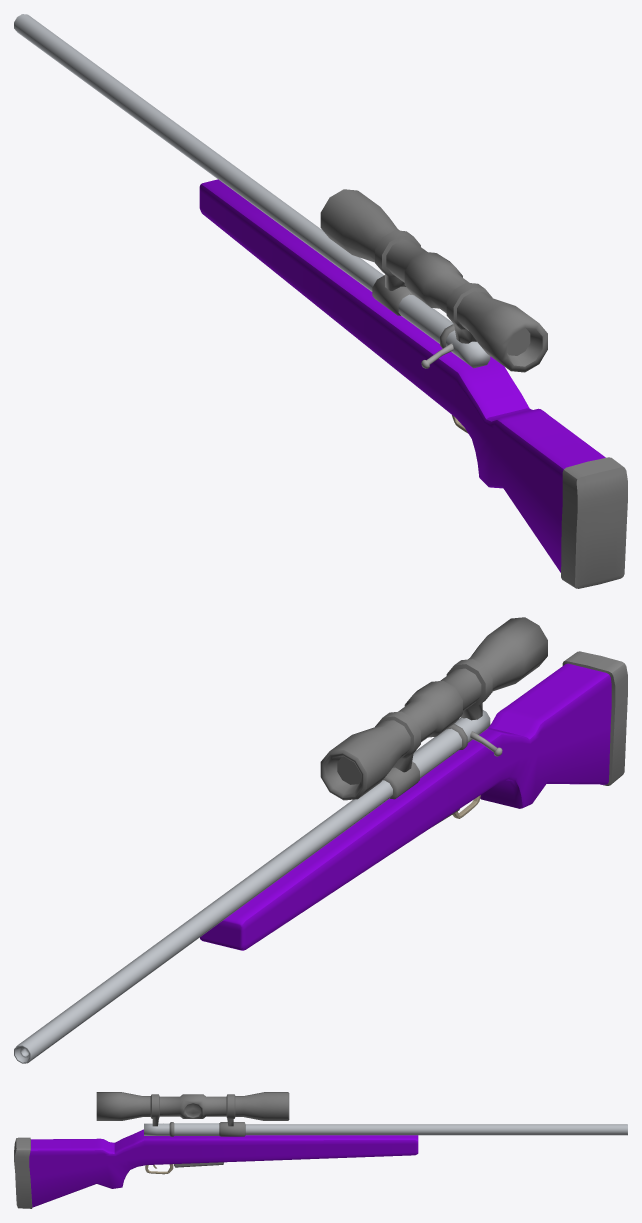
The model's file is sniper 1.fbx.
3 views of the same model, one above another, from view 1: azimuth 30°, elevation 25°; view 2: azimuth 150°, elevation 25°; view 3: azimuth 270°, elevation 25° (orthographic). The views are drawn at different scales.
Visible parts, largest first — view 1: SniperBase, SniperScope; view 2: SniperBase, SniperScope; view 3: SniperBase, SniperScope.
Part boxes in pixels (bbox=[...]): SniperBase: bbox=[199, 179, 627, 588]; SniperScope: bbox=[14, 14, 547, 372]; SniperBase: bbox=[200, 651, 627, 950]; SniperScope: bbox=[14, 617, 547, 1063]; SniperBase: bbox=[14, 1129, 418, 1208]; SniperScope: bbox=[96, 1092, 627, 1136].
Bounding box in the file's own units: 0.0788 × 0.2385 × 1.2.
